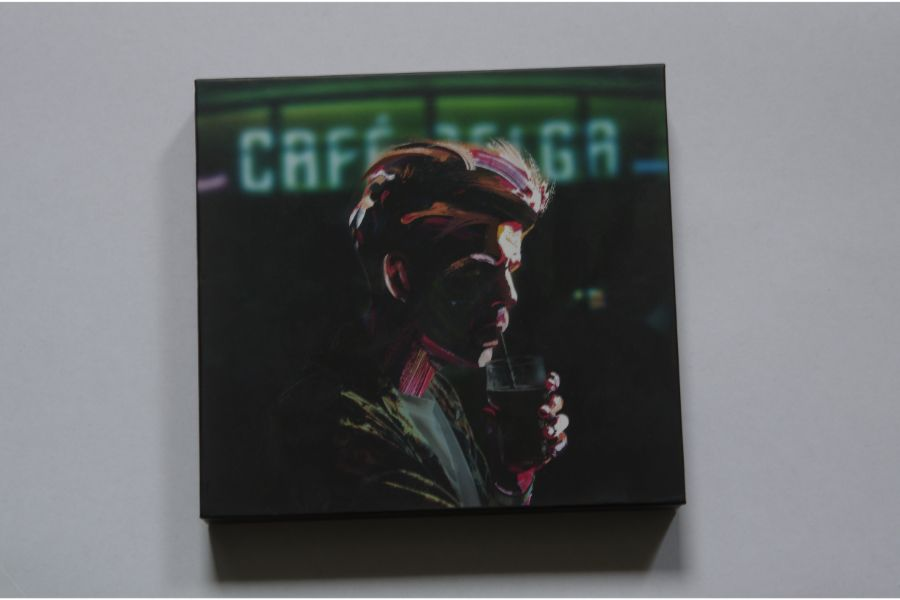album: (192, 61, 692, 516)
